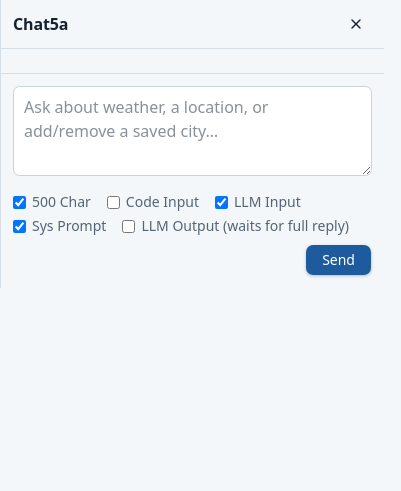
Scenario: returns focus to the textarea after a send completes or fails
Type "add Nashville" into the text box named "message". click: (192, 131)
box: x1=13 y1=86 x2=372 y2=176
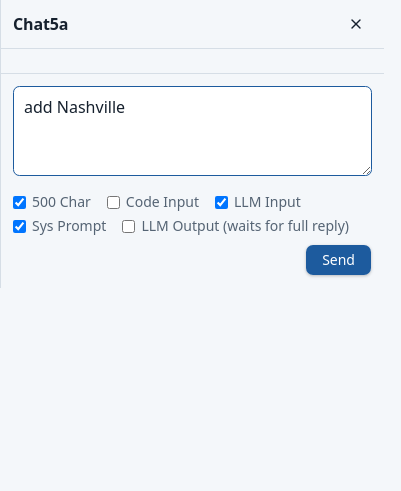
Click the button "Send". click: (339, 260)
box: x1=305 y1=244 x2=372 y2=276
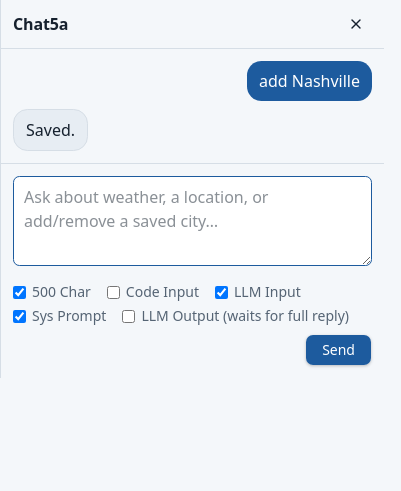
Type "add Denver" into the text box named "message". click: (192, 221)
box: x1=13 y1=176 x2=372 y2=266
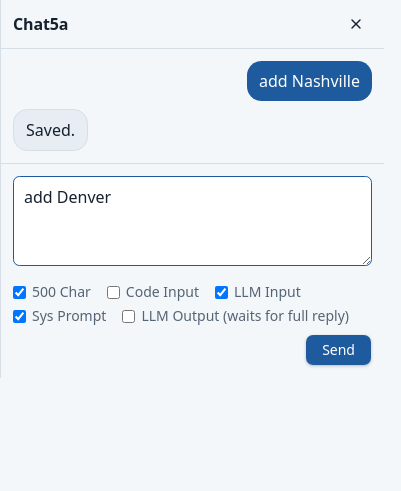
Click the button "Send". click: (339, 350)
box: x1=305 y1=334 x2=372 y2=366
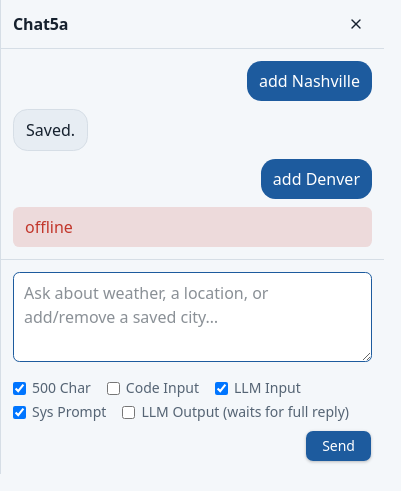
Expected: the text "offline" is shown, x1=13 y1=207 x2=372 y2=247
